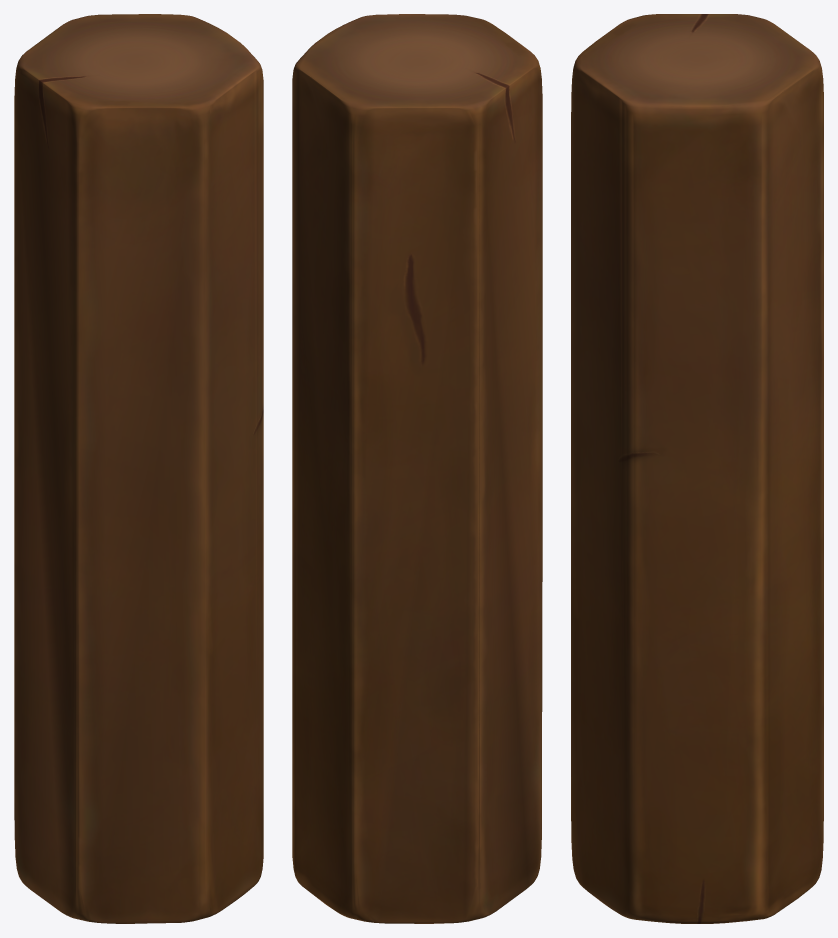
File: Wooden_Post_001.fbx
3 views of the same model, side by side, from view 1: azimuth 30°, elevation 25°; view 2: azimuth 150°, elevation 25°; view 3: azimuth 270°, elevation 25° (orthographic).
Visible parts, largest first — view 1: Wooden_Post_001; view 2: Wooden_Post_001; view 3: Wooden_Post_001.
Boxes of the visible parts, x1,y1,x2,y2 form: Wooden_Post_001: (14,14,263,923); Wooden_Post_001: (292,14,542,923); Wooden_Post_001: (571,14,823,923).
Size of the model in its own units: 36.68 by 150 by 41.89.
1 material, 1 textured.
